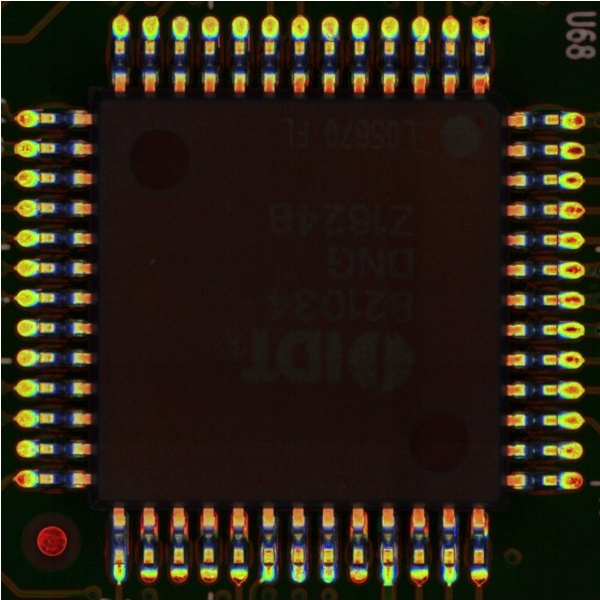Bad_podu: (443, 556, 453, 573), (383, 555, 392, 572), (323, 556, 332, 573), (113, 556, 122, 571), (264, 554, 271, 572), (293, 556, 300, 573)
